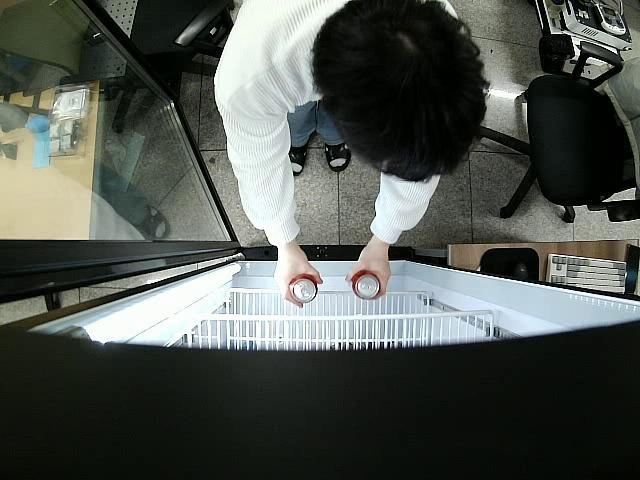11_cocaColaZero: (351, 268, 384, 301), (286, 276, 319, 302)
